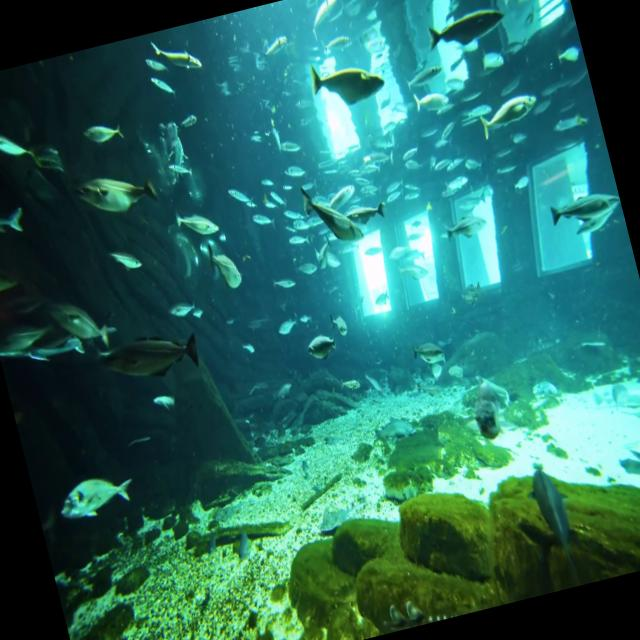fish: (82, 300, 218, 418), (42, 452, 144, 544), (30, 262, 111, 374), (66, 142, 162, 224), (296, 42, 394, 118), (541, 167, 621, 253), (296, 174, 370, 264), (419, 0, 514, 58), (475, 78, 546, 138), (0, 293, 58, 363), (404, 58, 461, 126), (170, 191, 230, 251), (146, 22, 208, 80), (194, 235, 252, 295), (338, 180, 395, 232), (432, 203, 497, 245), (0, 113, 39, 183), (293, 0, 350, 46), (78, 104, 134, 149), (0, 177, 32, 247), (100, 230, 142, 280), (300, 326, 340, 376), (251, 26, 291, 70), (0, 247, 29, 306), (148, 59, 182, 108), (328, 298, 354, 340)
